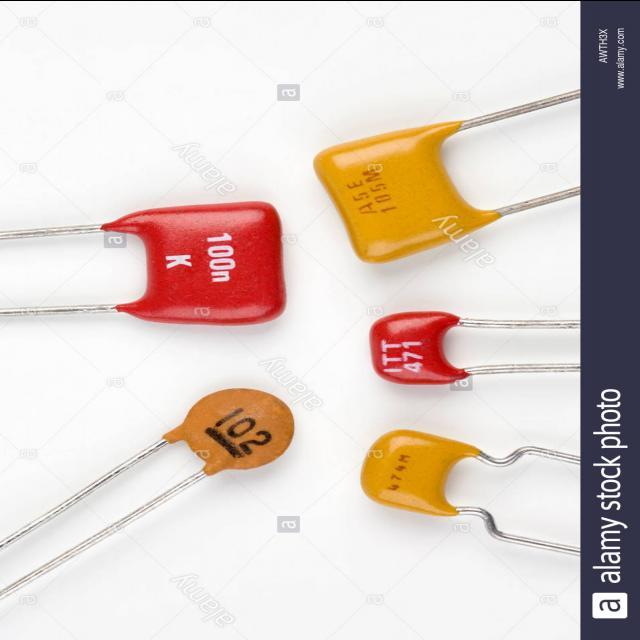Capacitor: (0, 389, 294, 599), (314, 92, 580, 262), (0, 202, 285, 324), (361, 430, 580, 554), (370, 311, 580, 384)
